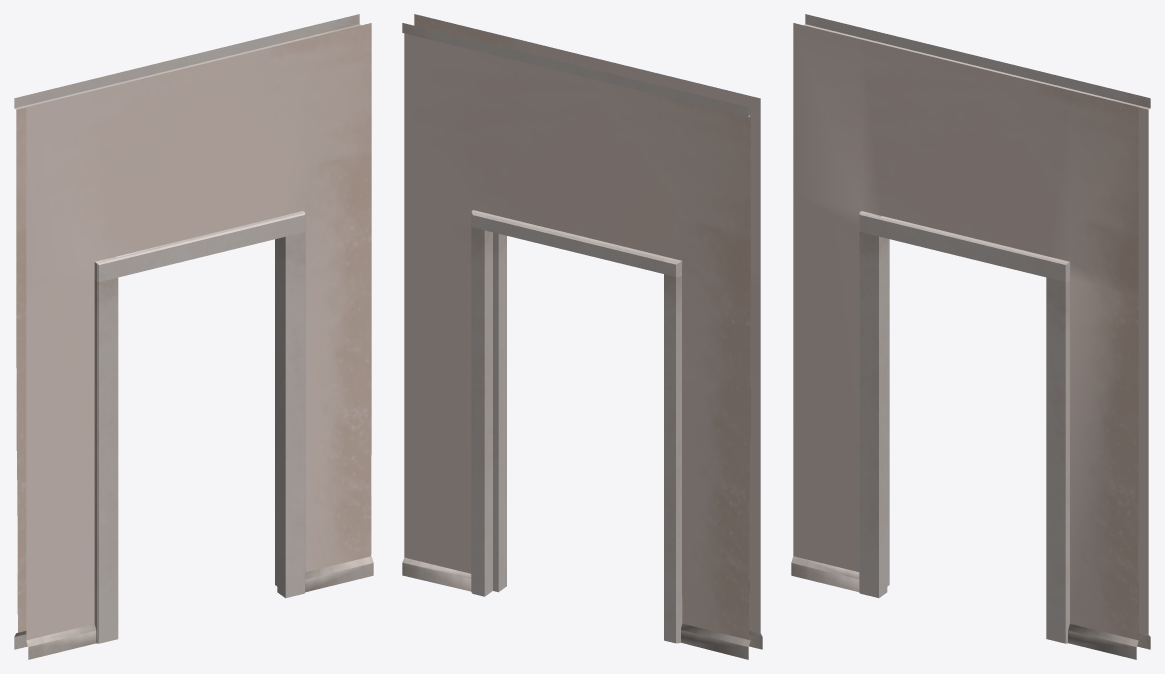
The model's file is MT_WP_Door_Wall.fbx.
The picture shows the model from 3 angles, left to right: view 1: azimuth 30°, elevation 25°; view 2: azimuth 150°, elevation 25°; view 3: azimuth 330°, elevation 25°; orthographic projection.
Parts seen in each view (by area): view 1: DoorWall.001; view 2: DoorWall.001; view 3: DoorWall.001.
Part boxes in pixels (left/top/right/bottom): DoorWall.001: left=14, top=14, right=373, bottom=659; DoorWall.001: left=402, top=14, right=762, bottom=659; DoorWall.001: left=791, top=14, right=1150, bottom=659.
Size of the model in its own units: 200 by 305 by 16.33.
